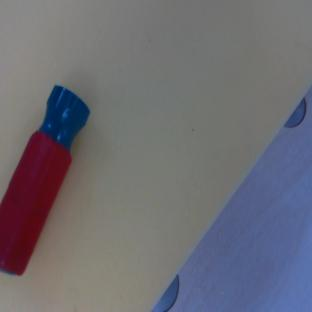part_2_good: (0, 83, 97, 281)
